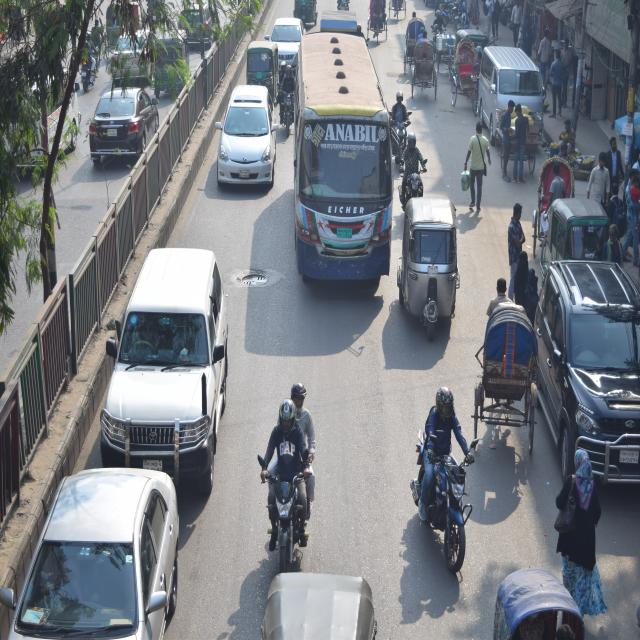bus: (298, 31, 392, 310)
car: (104, 225, 230, 484), (19, 460, 187, 640), (526, 252, 639, 482), (216, 81, 277, 189), (91, 84, 156, 167), (271, 12, 302, 54)
microbus: (474, 38, 543, 155)
motorbike: (410, 437, 479, 575), (256, 448, 310, 590), (274, 81, 296, 145), (398, 166, 422, 218), (388, 119, 409, 164)
